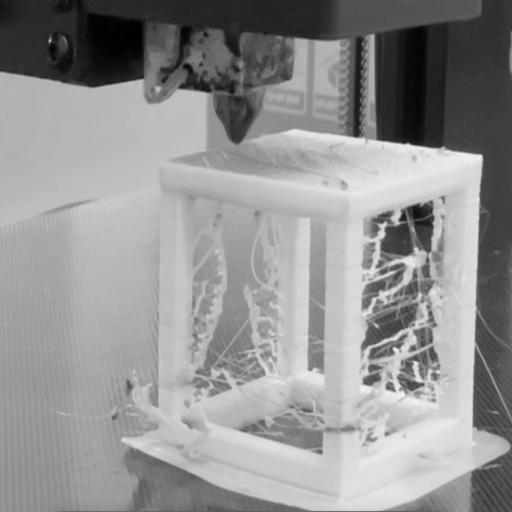spaghetti_and_stringing: (188, 194, 331, 454), (357, 213, 463, 447), (112, 370, 176, 431)
warp: (114, 434, 312, 502)
